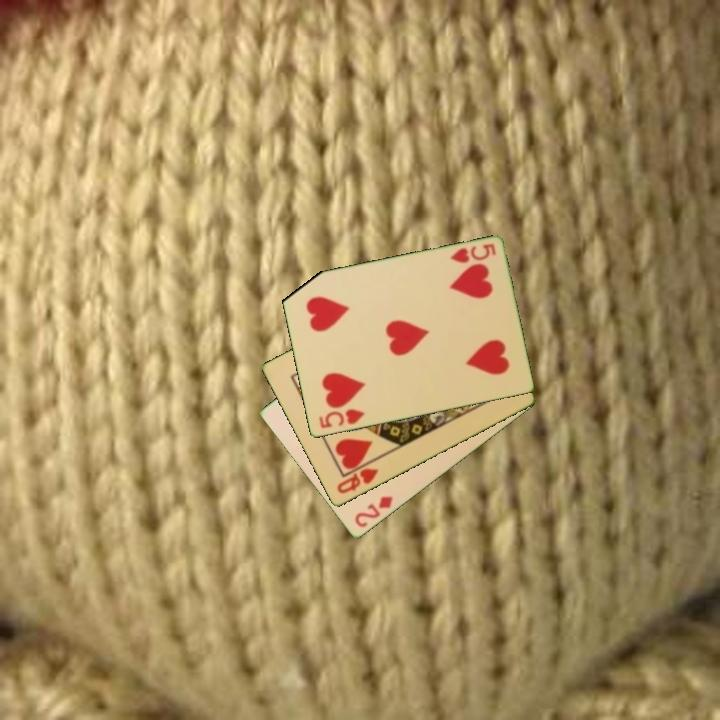2d: (351, 493, 396, 531)
5h: (315, 406, 367, 432), (447, 240, 499, 266)
Qh: (333, 465, 381, 497)
